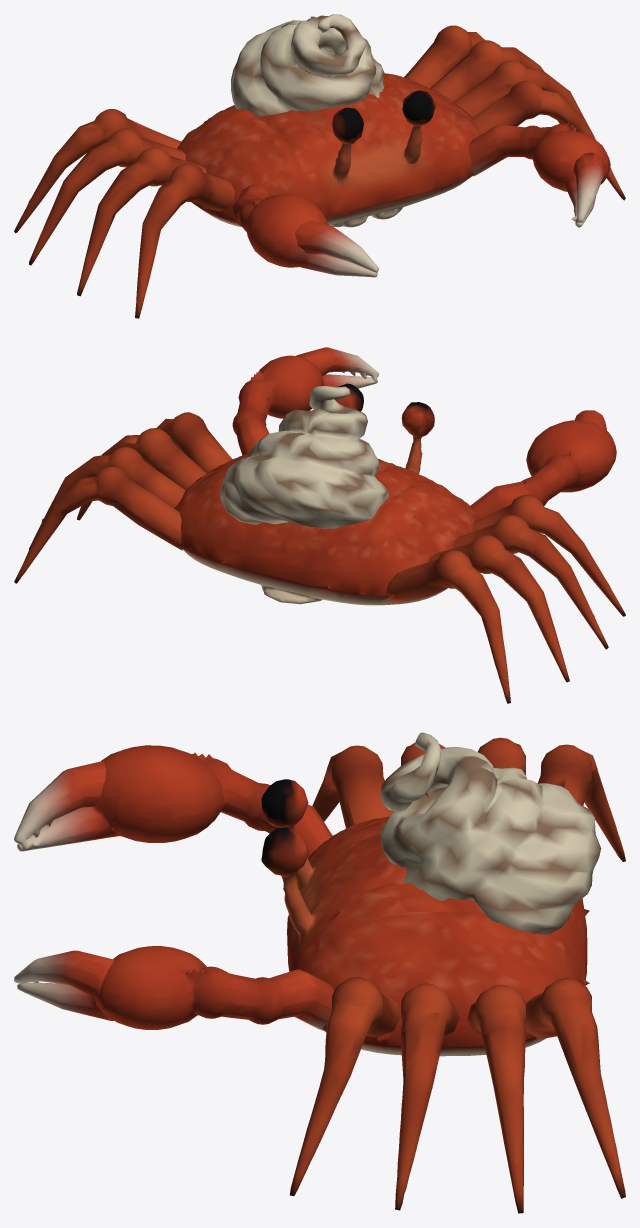
The model's file is crab.glb.
3 views of the same model, one above another, from view 1: azimuth 30°, elevation 25°; view 2: azimuth 150°, elevation 25°; view 3: azimuth 270°, elevation 25° (orthographic). The views are drawn at different scales.
Visible parts, largest first — view 1: carapace, shell_mesh, claw_P_mesh, claw_N_mesh, leg_N3_mesh, leg_N1_mesh, leg_N2_mesh, leg_P3_mesh, leg_N0_mesh, leg_P1_mesh, leg_P2_mesh, leg_P0_mesh (+2 smaller); view 2: carapace, shell_mesh, claw_N_mesh, claw_P_mesh, leg_P0_mesh, leg_N0_mesh, leg_N1_mesh, leg_N2_mesh, leg_N3_mesh, leg_P1_mesh, leg_P2_mesh, leg_P3_mesh (+1 smaller); view 3: carapace, shell_mesh, claw_N_mesh, claw_P_mesh, leg_P0_mesh, leg_P3_mesh, leg_P1_mesh, leg_P2_mesh, leg_N3_mesh, leg_N0_mesh, pincer_N_mesh, pincer_P_mesh (+1 smaller).
Boxes of the visible parts, x1,y1,x2,y2 form: carapace: (177,73,481,227); shell_mesh: (231,14,384,116); claw_P_mesh: (469,122,610,227); claw_N_mesh: (232,184,377,277); leg_N3_mesh: (135,163,235,318); leg_N1_mesh: (29,128,185,265); leg_N2_mesh: (77,147,206,296); leg_P3_mesh: (471,80,625,200); leg_N0_mesh: (14,109,180,233); leg_P1_mesh: (430,40,562,123); leg_P2_mesh: (455,60,595,139); leg_P0_mesh: (404,25,484,88); carapace: (173,383,480,605); shell_mesh: (220,386,388,528); claw_N_mesh: (470,420,616,518); claw_P_mesh: (232,355,377,454); leg_P0_mesh: (14,466,182,583); leg_N0_mesh: (386,550,510,703); leg_N1_mesh: (428,535,569,682); leg_N2_mesh: (453,515,608,649); leg_N3_mesh: (472,495,625,616); leg_P1_mesh: (29,447,185,549); leg_P2_mesh: (77,428,206,520); leg_P3_mesh: (156,412,232,473); carapace: (261,779,589,1056); shell_mesh: (380,732,601,934); claw_N_mesh: (17,745,332,858); claw_P_mesh: (17,946,333,1031); leg_P0_mesh: (524,978,625,1198); leg_P3_mesh: (289,977,400,1196); leg_P1_mesh: (467,984,525,1213); leg_P2_mesh: (395,983,459,1210); leg_N3_mesh: (312,745,393,828); leg_N0_mesh: (537,744,625,861); pincer_N_mesh: (14,761,106,850); pincer_P_mesh: (14,950,113,998).
Bounding box in the file's own units: 1.53 × 0.5584 × 1.07.
